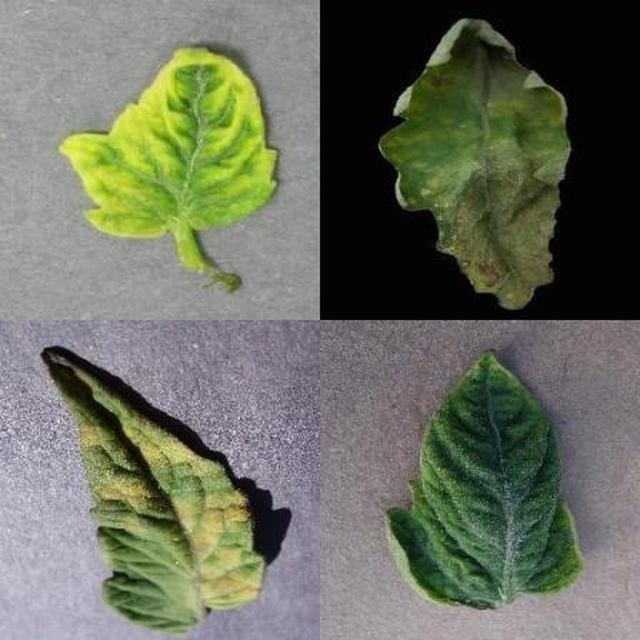Yellow Leaf Curl Virus: (218, 203, 640, 640)
